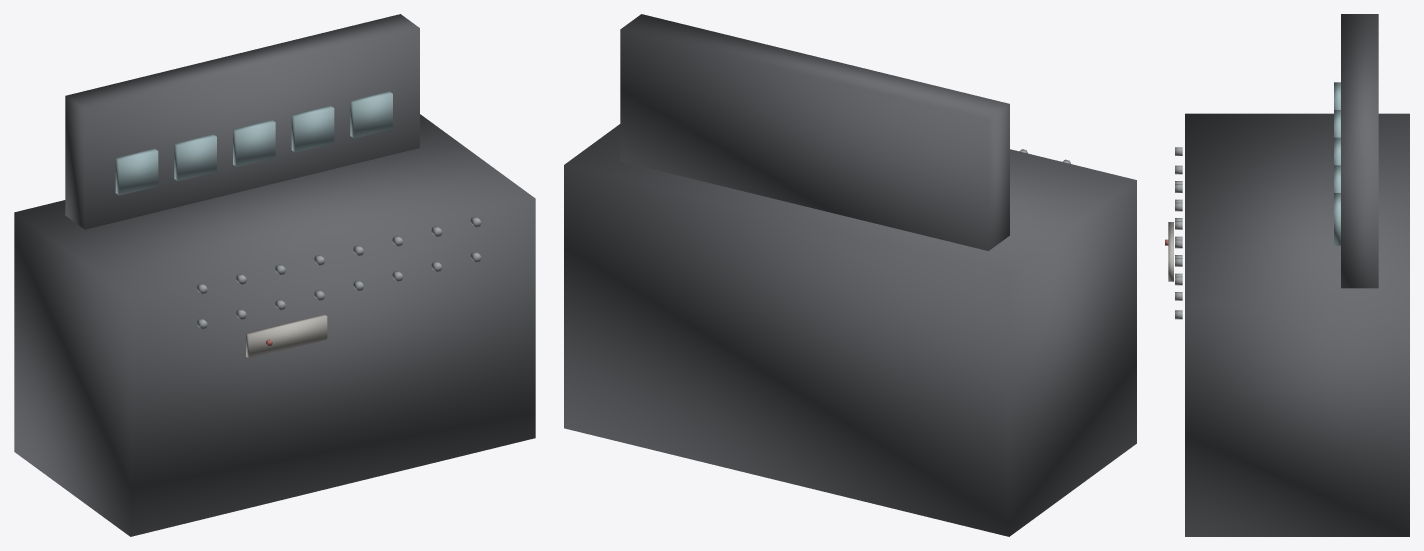
File: pa_rack.glb
3 views of the same model, side by side, from view 1: azimuth 30°, elevation 25°; view 2: azimuth 150°, elevation 25°; view 3: azimuth 270°, elevation 25° (orthographic). The views are drawn at different scales.
Parts seen in each view (by area): view 1: world; view 2: world; view 3: world.
Boxes of the visible parts, left/top/right/bottom form: world: left=14, top=14, right=535, bottom=536; world: left=564, top=14, right=1136, bottom=536; world: left=1165, top=14, right=1409, bottom=536.
Size of the model in its own units: 1.45 by 1.23 by 0.7835.
